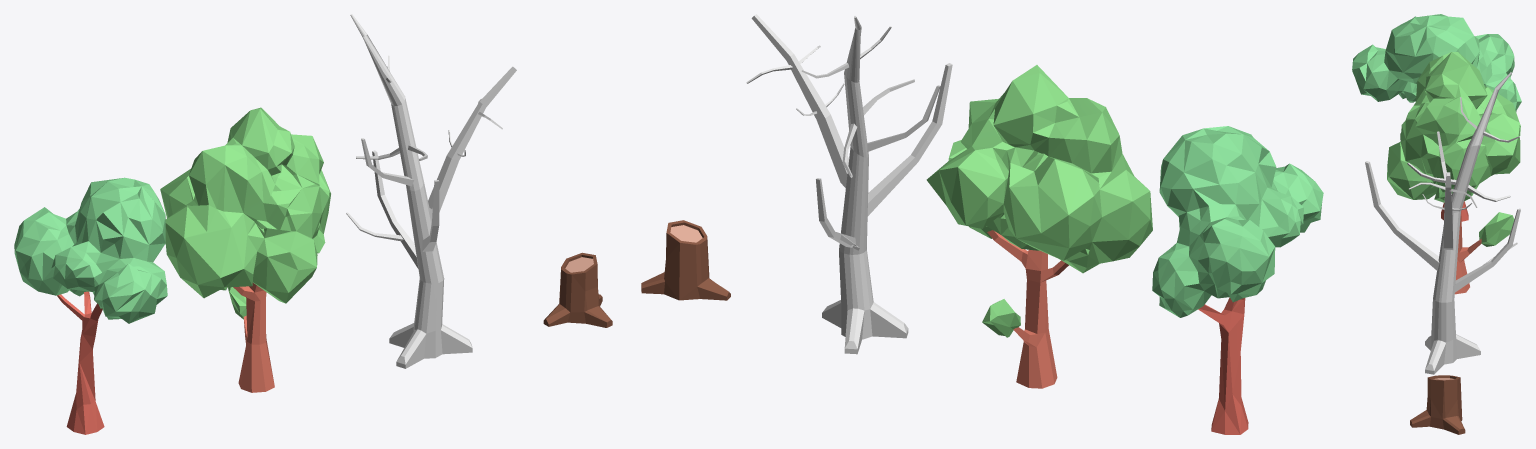
Rendered from trees.fbx.
The picture shows the model from 3 angles, left to right: view 1: azimuth 30°, elevation 25°; view 2: azimuth 150°, elevation 25°; view 3: azimuth 270°, elevation 25°; orthographic projection. The views are drawn at different scales.
Visible parts, largest first — view 1: _4_tree, _3_tree, _11_tree, _12_tree; view 2: _4_tree, _3_tree, _11_tree, _12_tree; view 3: _4_tree, _11_tree, _3_tree, _12_tree.
Part boxes in pixels (x1,y1,x2,y2): _4_tree: (160, 107, 330, 392); _3_tree: (14, 177, 167, 434); _11_tree: (346, 14, 516, 368); _12_tree: (543, 252, 612, 327); _4_tree: (926, 65, 1152, 388); _3_tree: (1152, 126, 1323, 434); _11_tree: (746, 14, 952, 354); _12_tree: (641, 220, 730, 300); _4_tree: (1387, 52, 1520, 294); _11_tree: (1365, 72, 1520, 374); _3_tree: (1352, 14, 1521, 221); _12_tree: (1410, 375, 1465, 434).
Size of the model in its own units: 387 by 206 by 117.
